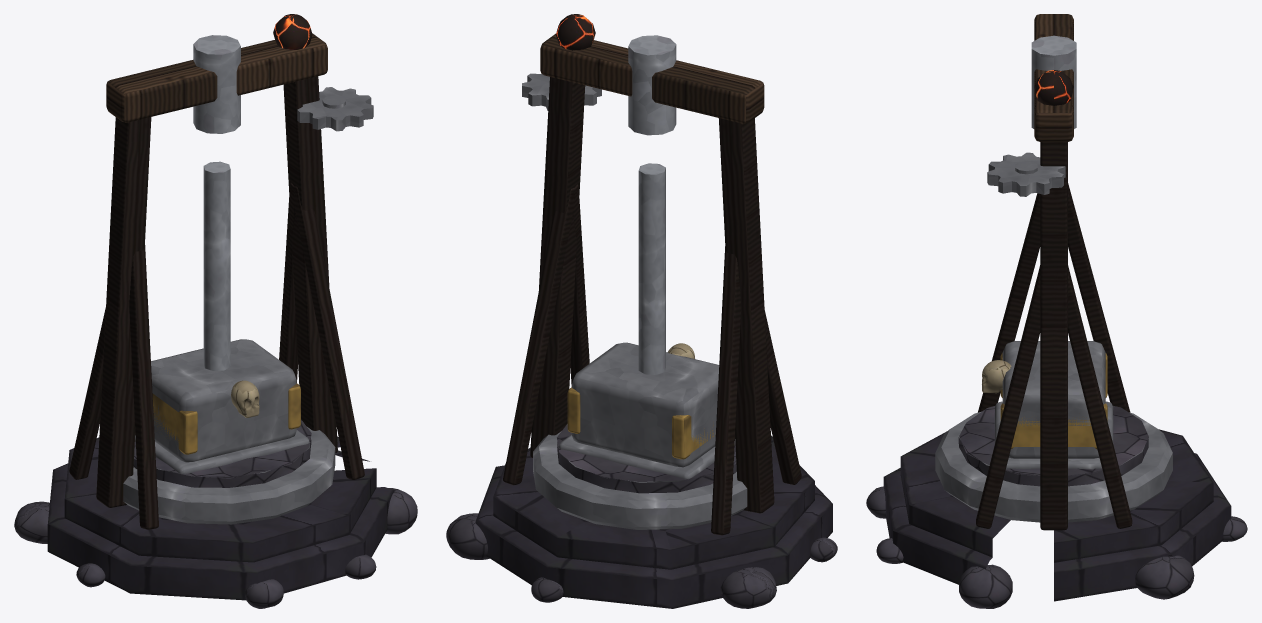
The model's file is quake.glb.
3 renders of one model, left to right at view 1: azimuth 30°, elevation 25°; view 2: azimuth 150°, elevation 25°; view 3: azimuth 270°, elevation 25°, orthographic.
Visible parts, largest first — view 1: Base, Turret; view 2: Base, Turret; view 3: Base, Turret.
Boxes of the visible parts, x1,y1,x2,y2 form: Base: [14, 14, 417, 608]; Turret: [135, 161, 309, 476]; Base: [446, 14, 837, 608]; Turret: [558, 163, 735, 482]; Base: [866, 14, 1247, 608]; Turret: [982, 341, 1113, 468].
Bounding box in the file's own units: 0.9388 × 1.4 × 0.9637.
9 materials, 9 textured.
